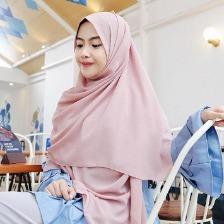HijabSyar-i: (38, 8, 178, 224)
